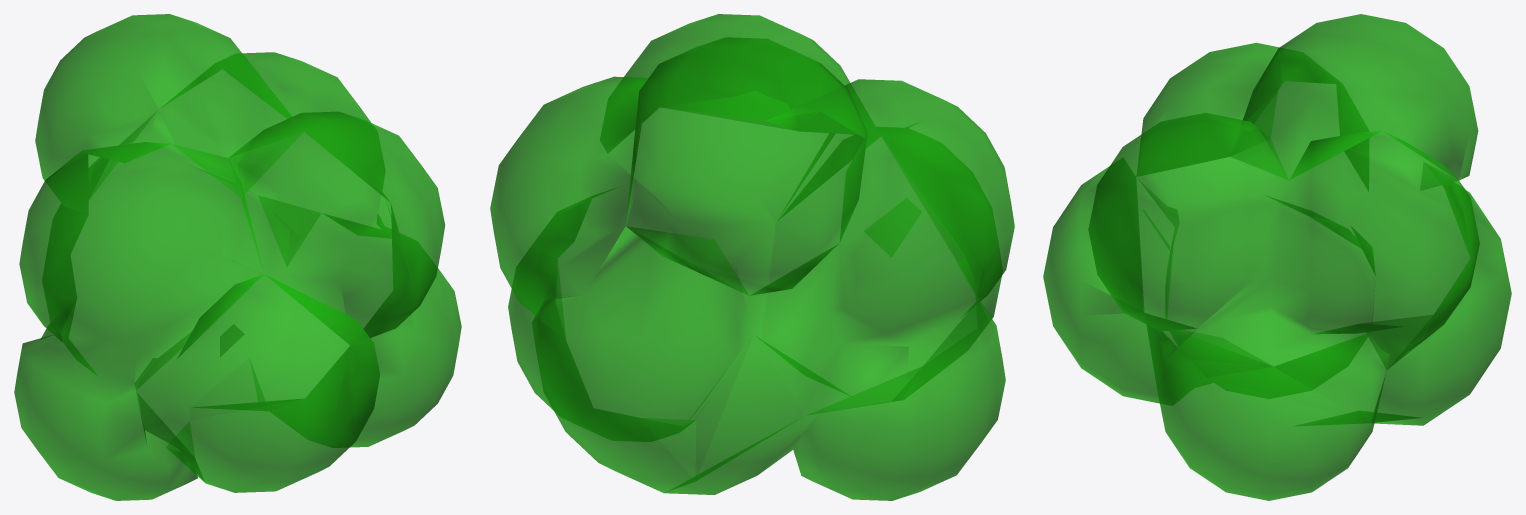
Rendered from treeBush.FBX.
The picture shows the model from 3 angles, left to right: view 1: azimuth 30°, elevation 25°; view 2: azimuth 150°, elevation 25°; view 3: azimuth 270°, elevation 25°; orthographic projection. The views are drawn at different scales.
Visible parts, largest first — view 1: Sphere002; view 2: Sphere002; view 3: Sphere002.
Part boxes in pixels (x1=…): Sphere002: x1=14, y1=14, x2=461, y2=500; Sphere002: x1=490, y1=14, x2=1014, y2=500; Sphere002: x1=1043, y1=14, x2=1511, y2=500.
Bounding box in the file's own units: 354 × 335 × 356.
